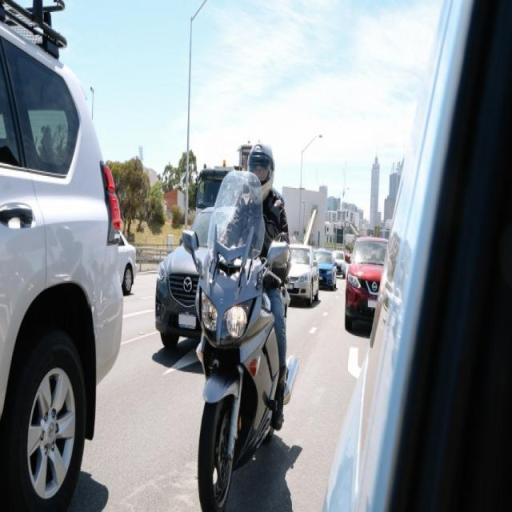Helmet: (248, 143, 274, 199)
Motor: (183, 172, 290, 511)
